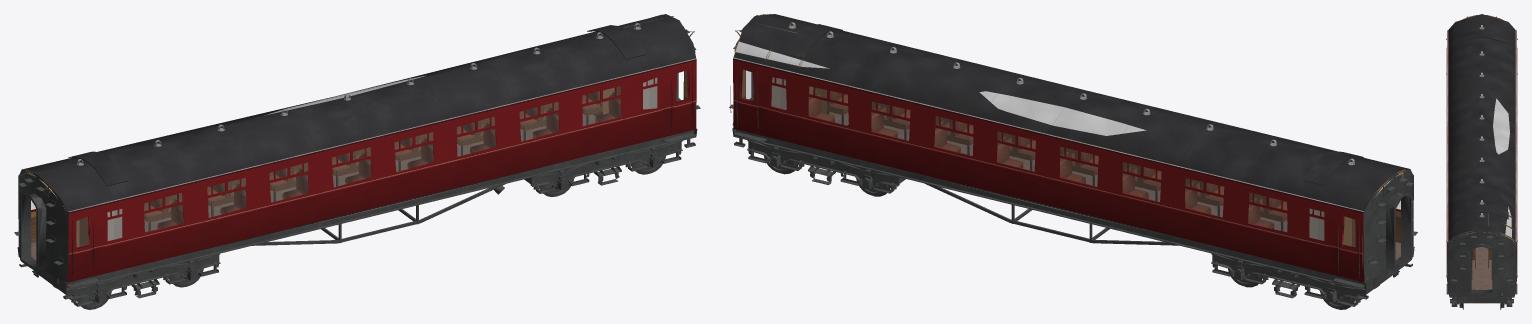
The model's file is express-coach.lo.glb.
3 renders of one model, left to right at view 1: azimuth 30°, elevation 25°; view 2: azimuth 150°, elevation 25°; view 3: azimuth 270°, elevation 25°, orthographic. The views are drawn at different scales.
Parts seen in each view (by area): view 1: GWR_Coach_Exterior_0, GWR_Coach_Interior_10, GWR_Coach_Glass_9; view 2: GWR_Coach_Exterior_0, GWR_Coach_Interior_10, GWR_Coach_Glass_9; view 3: GWR_Coach_Exterior_0, GWR_Coach_Interior_10.
Boxes of the visible parts, x1,y1,x2,y2 form: GWR_Coach_Exterior_0: [14, 14, 700, 306]; GWR_Coach_Interior_10: [21, 14, 695, 279]; GWR_Coach_Glass_9: [31, 77, 657, 247]; GWR_Coach_Exterior_0: [729, 14, 1417, 306]; GWR_Coach_Interior_10: [733, 14, 1410, 278]; GWR_Coach_Glass_9: [742, 70, 1400, 247]; GWR_Coach_Exterior_0: [1446, 14, 1517, 306]; GWR_Coach_Interior_10: [1446, 15, 1517, 292].
Bounding box in the file's own units: 19.25 × 3.92 × 2.61.
Materials: 4 (2 with a texture image).
